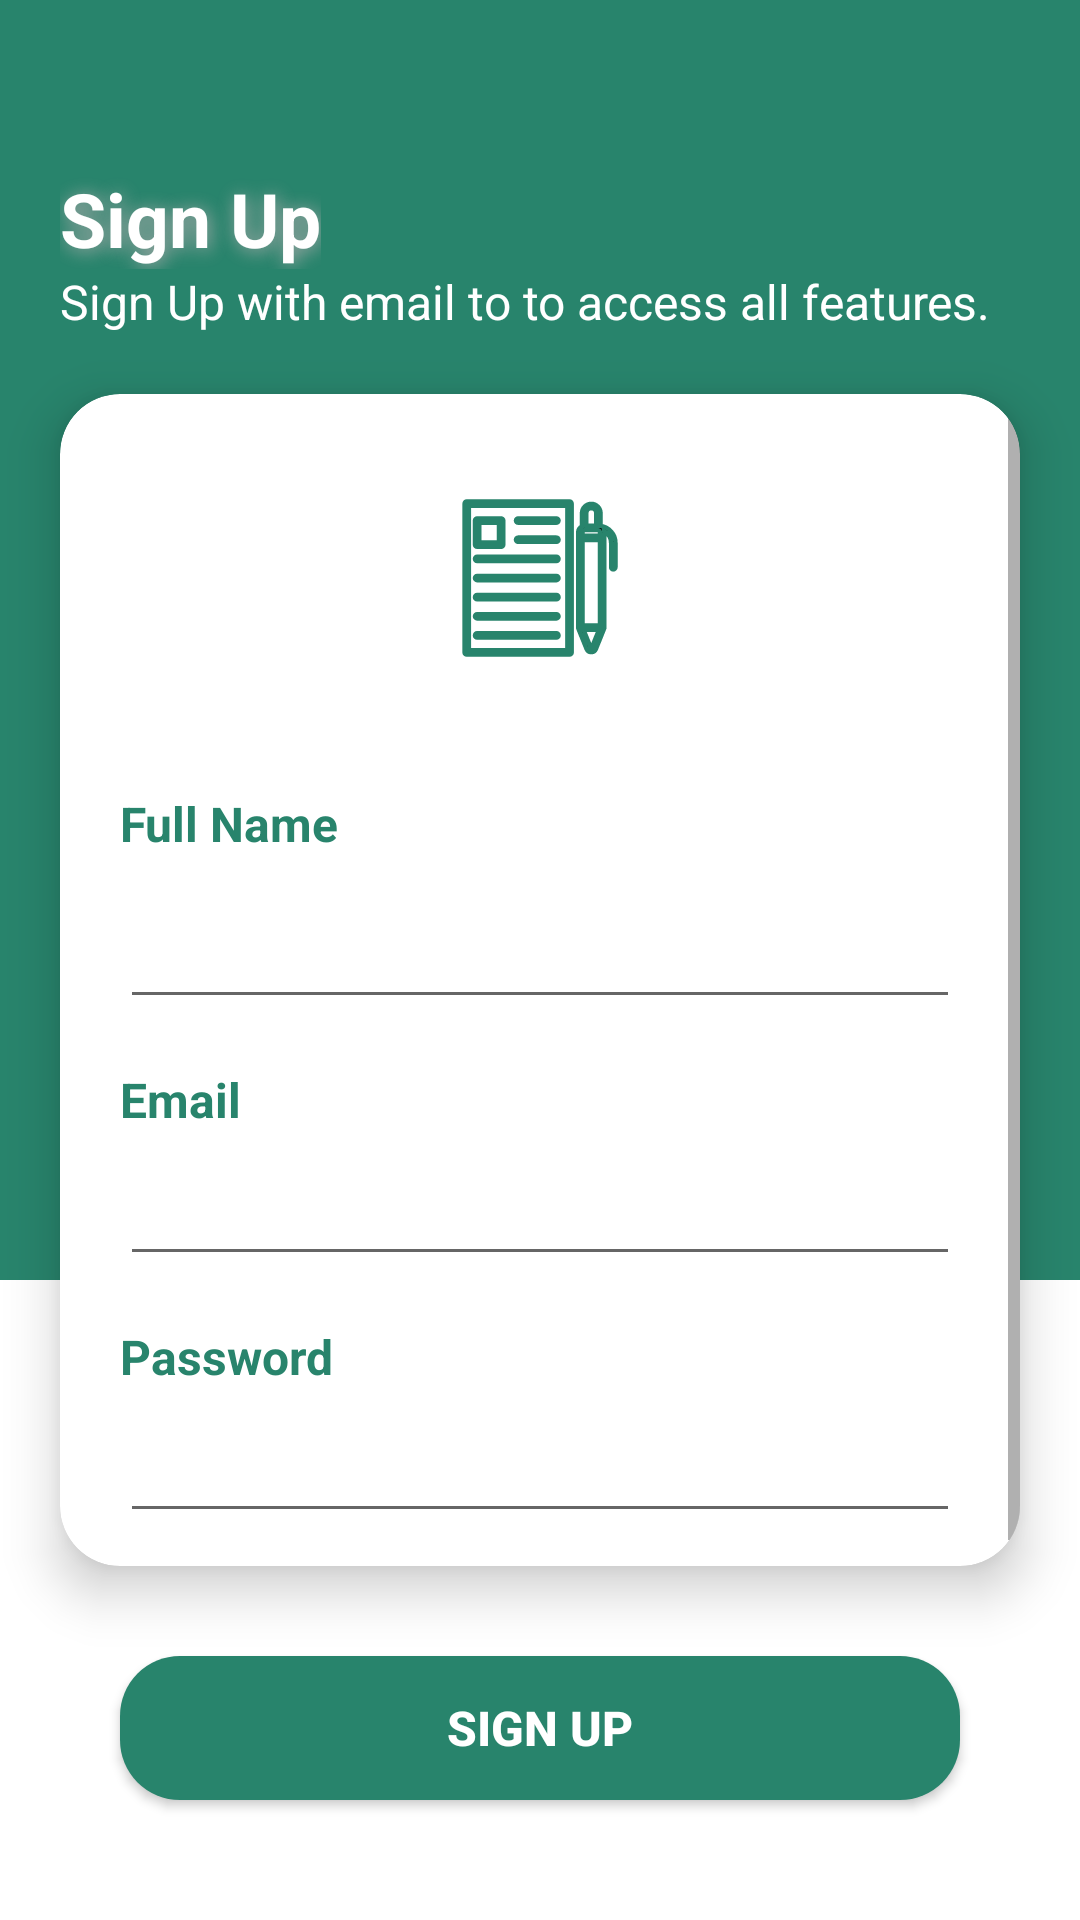

Where icons sit on this 1080px×1920px app screen, as (x1, y1, x2, y2):
education learning: (462, 499, 618, 657)
